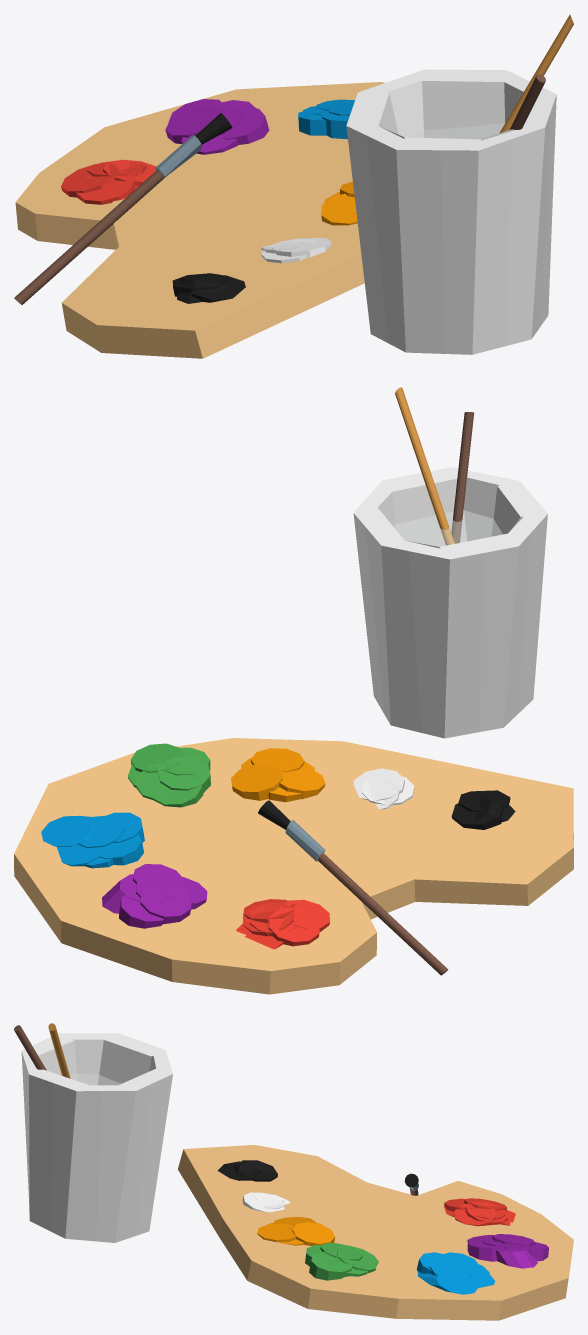
File: paint kit mini.glb
3 renders of one model, top to bottom at view 1: azimuth 30°, elevation 25°; view 2: azimuth 150°, elevation 25°; view 3: azimuth 270°, elevation 25°, orthographic. The views are drawn at different scales.
Visible parts, largest first — view 1: group1574860539, group1247032325, group1818759354, group953893450, group232990380, group56422566, group465467018, group686855367, group89805499, group1550278590, group797385045, group163514800 (+10 smaller); view 2: group1574860539, group1247032325, group1550278590, group1818759354, group953893450, group89805499, group122212227, group232990380, group748549275, group1283948824, group621005826, group163514800 (+10 smaller); view 3: group1574860539, group1247032325, group1159153237, group1283948824, group122212227, group74397697, group951691359, group163514800, group754144560, group56422566, group532001670, group89805499 (+6 smaller).
Part boxes in pixels (<box>): group1574860539: <box>15,82,384,358</box>; group1247032325: <box>346,69,556,354</box>; group1818759354: <box>14,170,167,304</box>; group953893450: <box>165,107,223,143</box>; group232990380: <box>61,163,118,197</box>; group56422566: <box>221,107,269,144</box>; group465467018: <box>76,171,135,204</box>; group686855367: <box>321,193,357,225</box>; group89805499: <box>499,14,573,133</box>; group1550278590: <box>408,123,504,138</box>; group797385045: <box>191,275,245,302</box>; group163514800: <box>272,237,331,257</box>; group1574860539: <box>14,738,573,994</box>; group1247032325: <box>353,467,547,738</box>; group1550278590: <box>394,510,502,546</box>; group1818759354: <box>317,852,448,975</box>; group953893450: <box>140,883,191,923</box>; group89805499: <box>395,387,454,545</box>; group122212227: <box>231,764,282,800</box>; group232990380: <box>268,907,319,946</box>; group748549275: <box>451,412,474,543</box>; group1283948824: <box>41,815,93,846</box>; group621005826: <box>158,756,210,793</box>; group163514800: <box>353,768,404,800</box>; group1574860539: <box>177,1145,573,1320</box>; group1247032325: <box>21,1033,172,1242</box>; group1159153237: <box>309,1252,353,1280</box>; group1283948824: <box>417,1270,477,1294</box>; group122212227: <box>292,1222,335,1245</box>; group74397697: <box>496,1245,537,1268</box>; group951691359: <box>257,1223,295,1242</box>; group163514800: <box>242,1192,284,1212</box>; group754144560: <box>453,1202,496,1226</box>; group56422566: <box>467,1240,506,1261</box>; group532001670: <box>429,1258,471,1277</box>; group89805499: <box>48,1023,70,1078</box>.
Size of the model in its own units: 0.0943 by 0.0738 by 0.1291.
